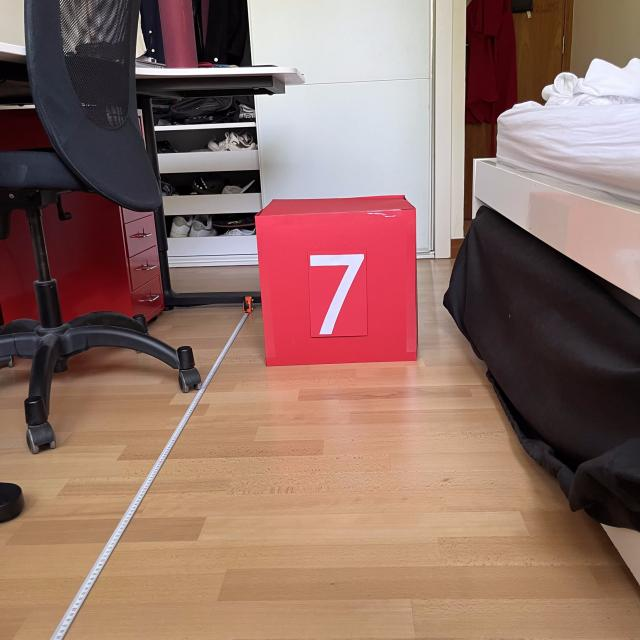box: (250, 191, 422, 368)
